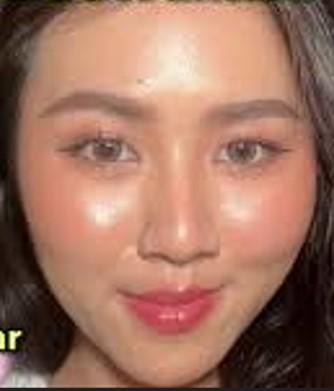Oily-Skin: (81, 10, 280, 92), (29, 178, 144, 288), (219, 179, 305, 270), (159, 117, 204, 261)
